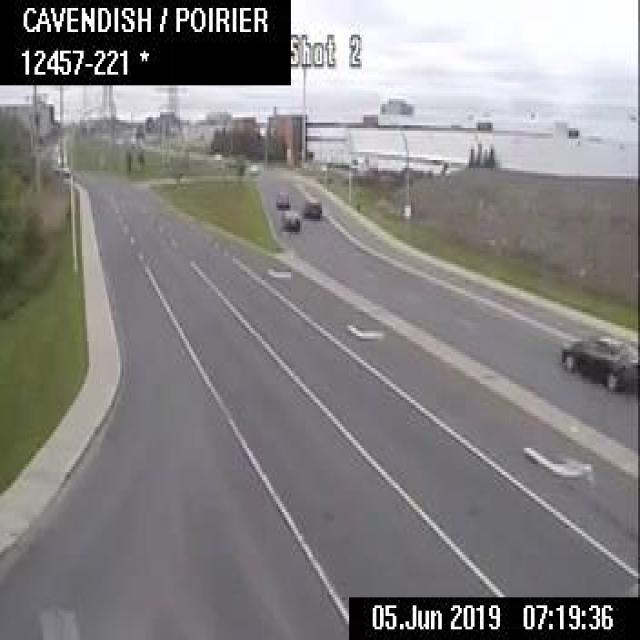vehicle: (560, 328, 638, 389), (278, 208, 300, 229), (302, 193, 320, 217), (275, 190, 288, 208)
